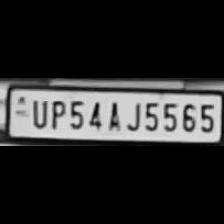4: (85, 96, 103, 130)
5: (140, 98, 160, 132), (196, 99, 216, 133), (65, 96, 84, 130), (160, 100, 178, 132)
6: (178, 100, 196, 132)
A: (104, 97, 122, 130)
J: (122, 97, 142, 130)
P: (46, 96, 66, 130)
U: (28, 97, 48, 129)
